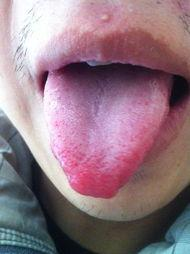baitaishe: (44, 73, 170, 199)
hongshe: (44, 73, 170, 199)
